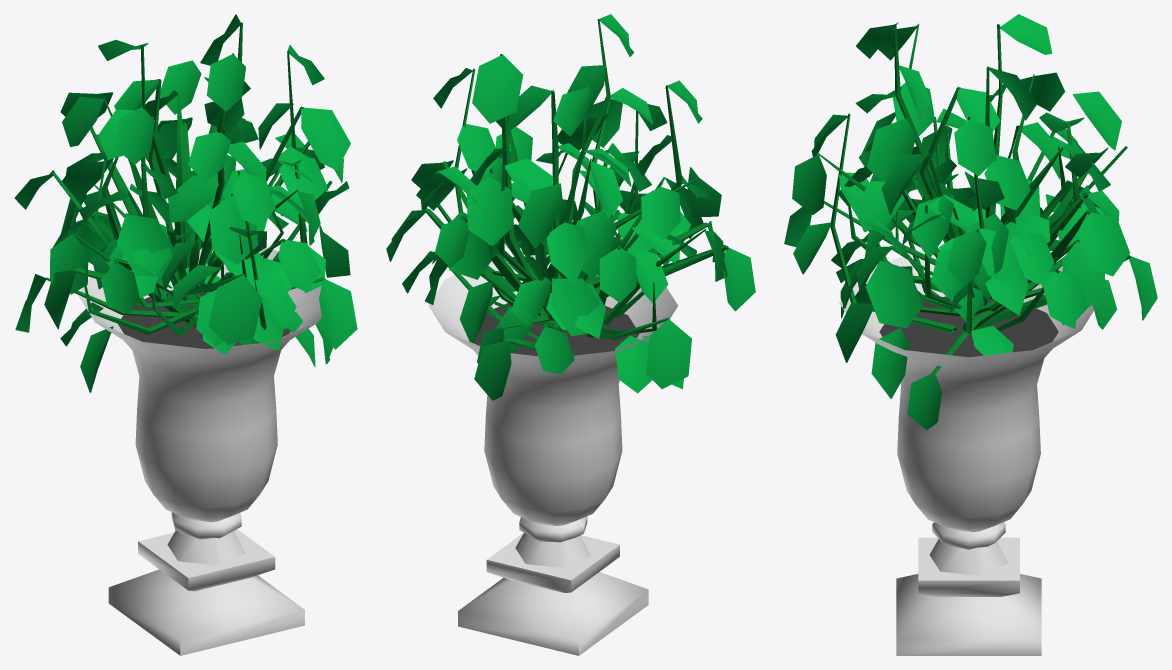
The model's file is flower_008.glb.
3 renders of one model, left to right at view 1: azimuth 30°, elevation 25°; view 2: azimuth 150°, elevation 25°; view 3: azimuth 270°, elevation 25°, orthographic. The views are drawn at different scales.
Parts seen in each view (by area): view 1: flower_008; view 2: flower_008; view 3: flower_008.
Boxes of the visible parts, <box> form: flower_008: <box>14,14,357,655</box>; flower_008: <box>386,14,755,655</box>; flower_008: <box>784,14,1157,655</box>.
Bounding box in the file's own units: 0.6587 × 1.16 × 0.6595.
1 material, 1 textured.
